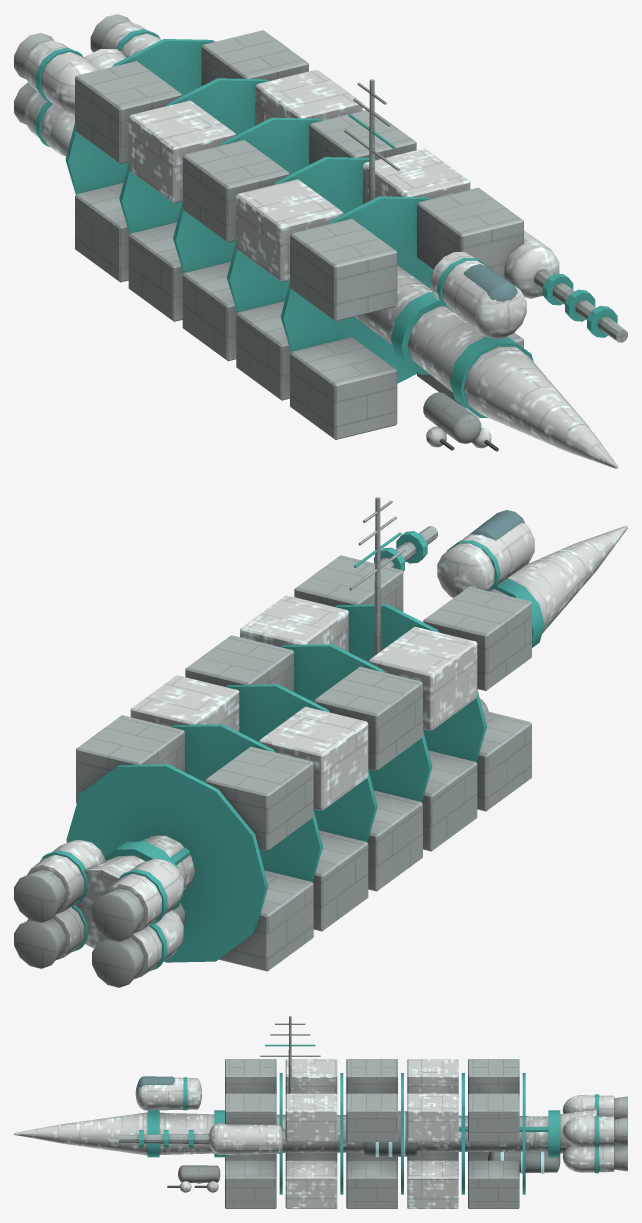
The model's file is ilk_carrier.glb.
3 renders of one model, top to bottom at view 1: azimuth 30°, elevation 25°; view 2: azimuth 150°, elevation 25°; view 3: azimuth 270°, elevation 25°, orthographic. The views are drawn at different scales.
Visible parts, largest first — view 1: HULL, SYS_HANGAR, SYS_DRIVE, SYS_BRIDGE, SYS_WPN1, SYS_PD, SYS_SENSORS; view 2: HULL, SYS_DRIVE, SYS_HANGAR, SYS_BRIDGE, SYS_SENSORS, SYS_WPN1; view 3: HULL, SYS_DRIVE, SYS_WPN1, SYS_BRIDGE, SYS_HANGAR, SYS_JUMP, SYS_PD, SYS_REACTOR, SYS_SENSORS.
Boxes of the visible parts, <box> form: HULL: <box>65,30,618,468</box>; SYS_HANGAR: <box>128,222,290,400</box>; SYS_DRIVE: <box>14,14,161,156</box>; SYS_BRIDGE: <box>430,252,526,338</box>; SYS_WPN1: <box>431,230,627,342</box>; SYS_PD: <box>423,392,498,451</box>; SYS_SENSORS: <box>344,79,399,201</box>; HULL: <box>66,526,627,971</box>; SYS_DRIVE: <box>14,839,183,987</box>; SYS_HANGAR: <box>312,750,477,931</box>; SYS_BRIDGE: <box>437,510,534,597</box>; SYS_SENSORS: <box>349,497,405,655</box>; SYS_WPN1: <box>374,526,437,571</box>; HULL: <box>14,1059,596,1208</box>; SYS_DRIVE: <box>562,1094,627,1173</box>; SYS_WPN1: <box>119,1123,283,1154</box>; SYS_BRIDGE: <box>135,1076,201,1110</box>; SYS_HANGAR: <box>285,1152,458,1161</box>; SYS_JUMP: <box>487,1151,560,1173</box>; SYS_PD: <box>167,1165,220,1192</box>; SYS_REACTOR: <box>364,1111,416,1156</box>; SYS_SENSORS: <box>260,1016,320,1093</box>.
Bounding box in the file's own units: 13.3 × 17.6 × 56.95.
Materials: 1 (1 with a texture image).
